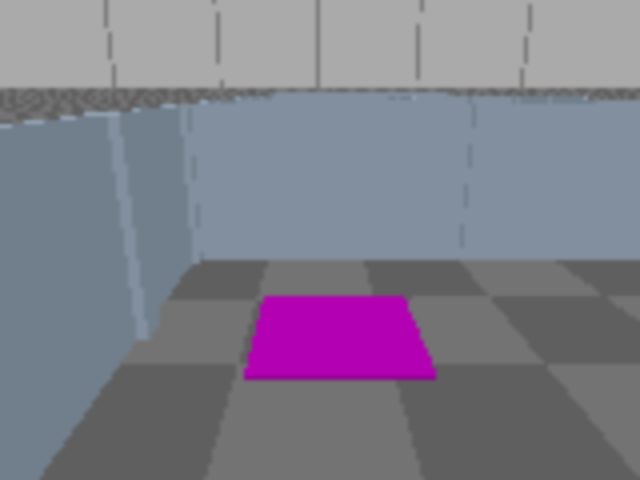goal_zone: (243, 295, 438, 380)
